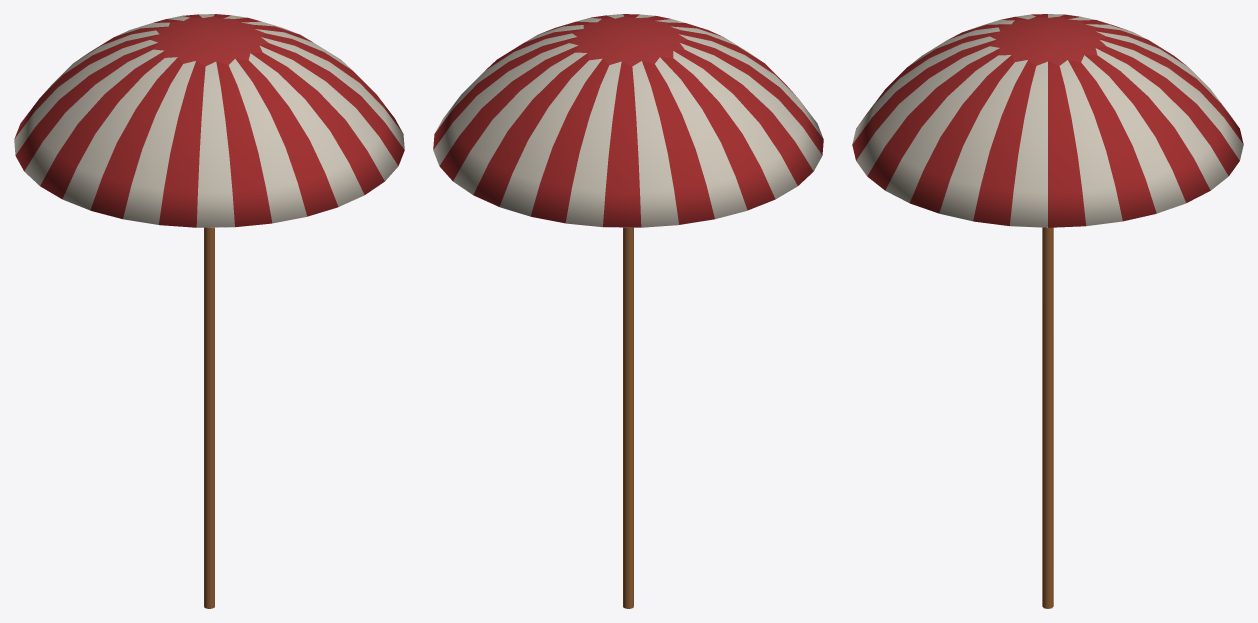
The model's file is UmbrellaRed.fbx.
The picture shows the model from 3 angles, left to right: view 1: azimuth 30°, elevation 25°; view 2: azimuth 150°, elevation 25°; view 3: azimuth 270°, elevation 25°; orthographic projection.
Visible parts, largest first — view 1: rud; view 2: rud; view 3: rud.
Boxes of the visible parts, x1,y1,x2,y2 form: rud: (14, 14, 404, 608); rud: (433, 14, 823, 608); rud: (852, 14, 1243, 608).
Bounding box in the file's own units: 1.71 × 2.77 × 1.71.
1 material, 1 textured.
